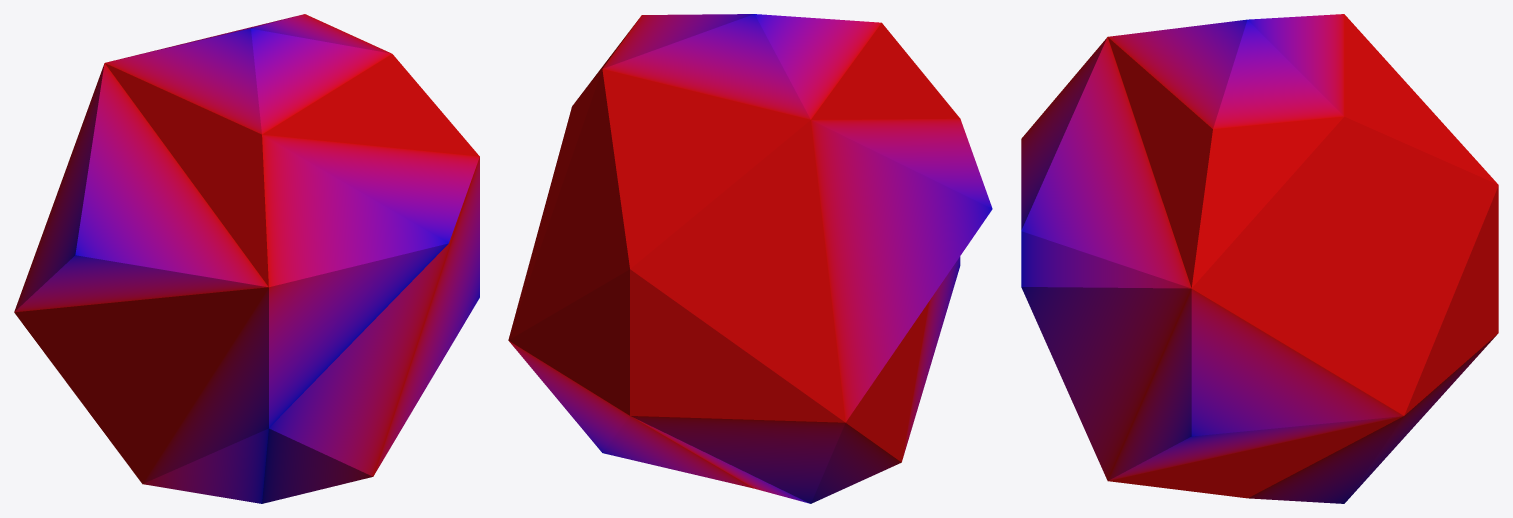
File: after_retriangulation_type_colored_8.obj
3 renders of one model, left to right at view 1: azimuth 30°, elevation 25°; view 2: azimuth 150°, elevation 25°; view 3: azimuth 270°, elevation 25°, orthographic. The views are drawn at different scales.
Bounding box in the file's own units: 1.85 × 2 × 1.81.
